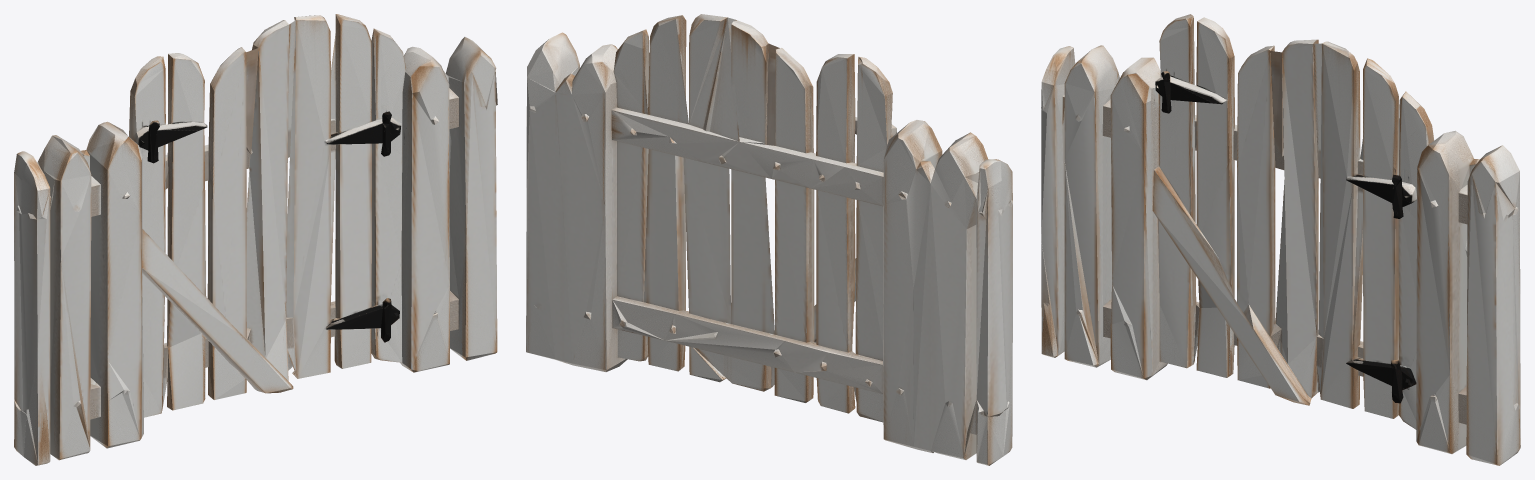
Rendered from garden_gate.glb.
3 views of the same model, side by side, from view 1: azimuth 30°, elevation 25°; view 2: azimuth 150°, elevation 25°; view 3: azimuth 330°, elevation 25° (orthographic).
Size of the model in its own units: 1.9 by 1.44 by 0.1994.
1 material, 1 textured.
